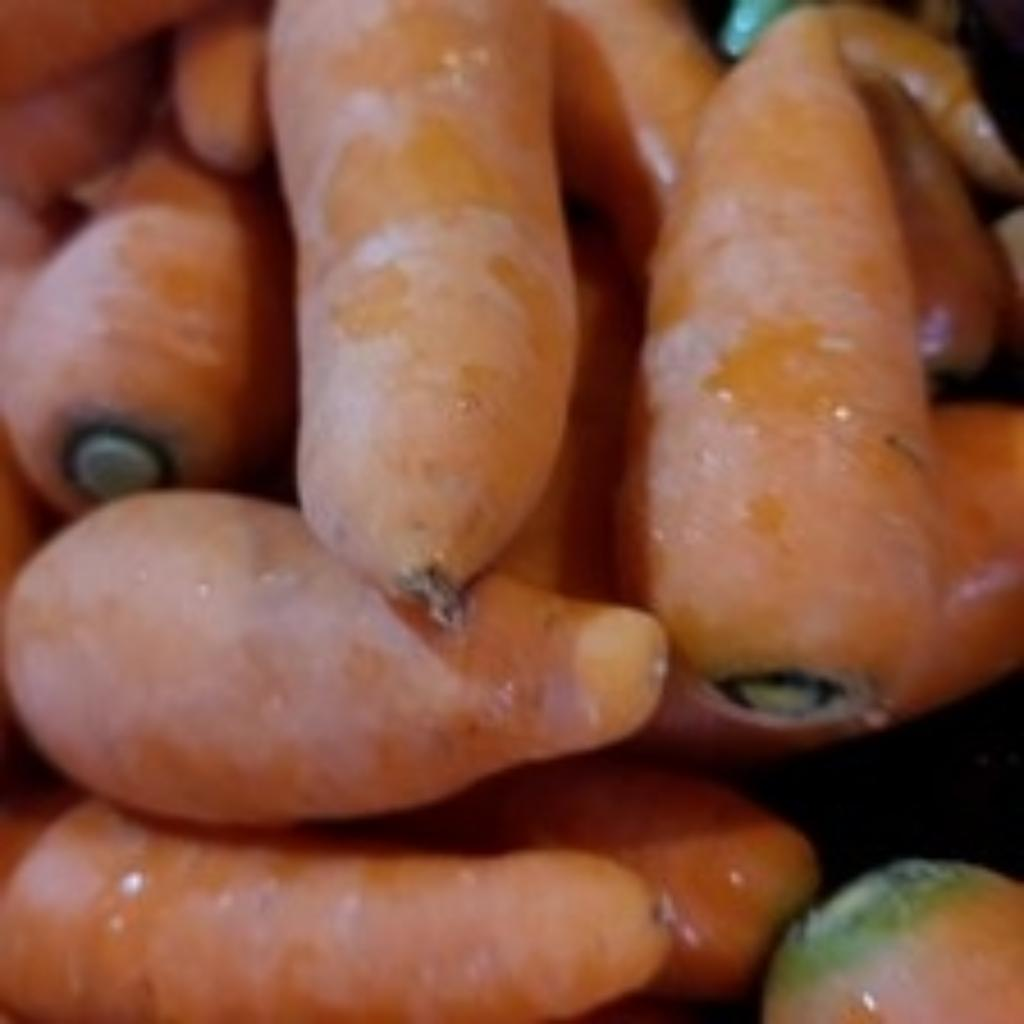carrot: (5, 0, 1015, 814), (0, 758, 816, 1024), (4, 146, 292, 513)
